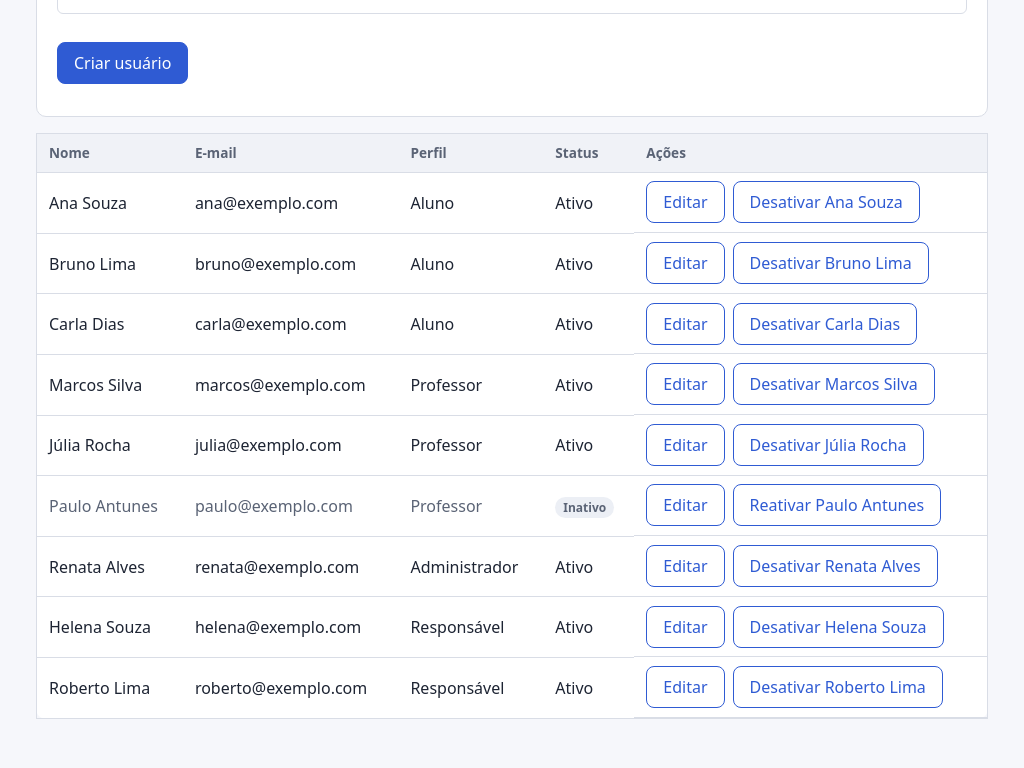
Test: perfis-acesso › Administrador desativa um Professor: ele some da entrada e fica inativo na lista
The image size is (1024, 768).
(page scrolled)
Click the button "Desativar Marcos Silva": (834, 384) [732,363,935,405]
(page scrolled)
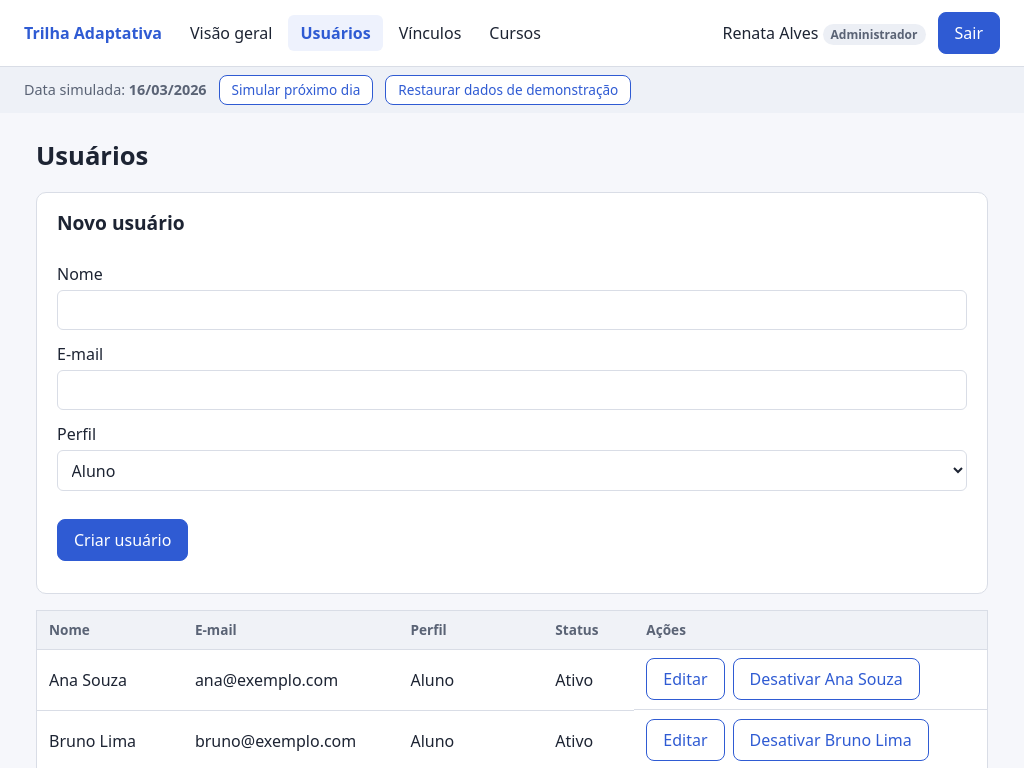
Click the button "Sair": (969, 33) [938,12,1000,54]
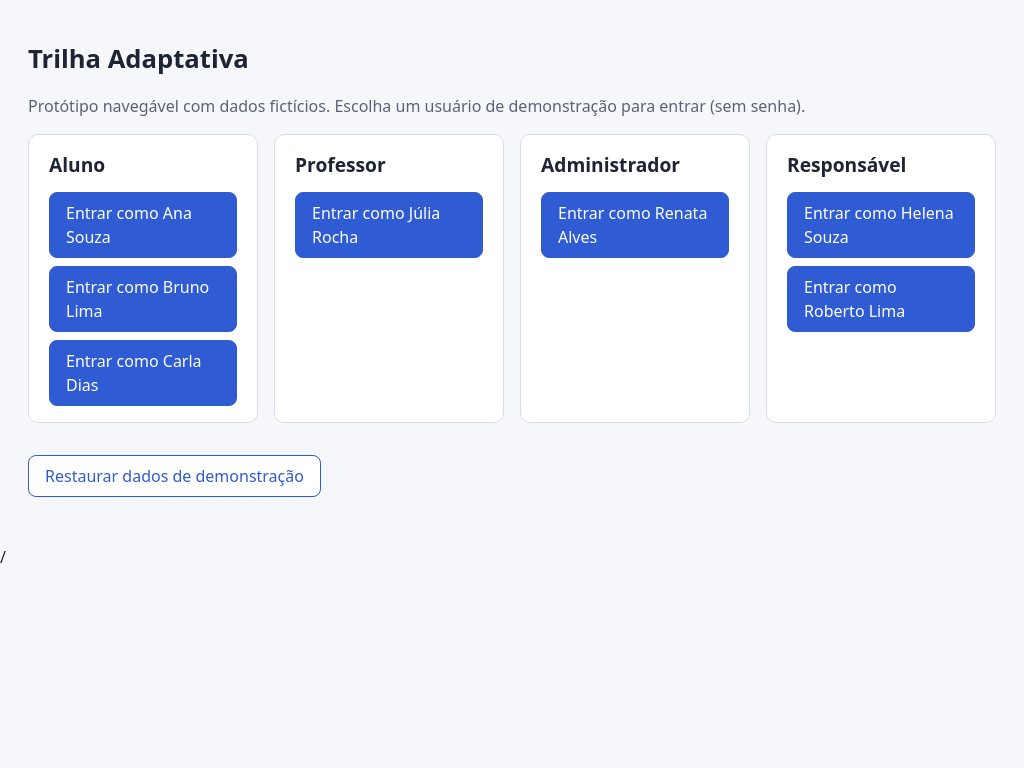
Expected: the button "Entrar como Ana Souza" is shown, [49,192,237,258]
